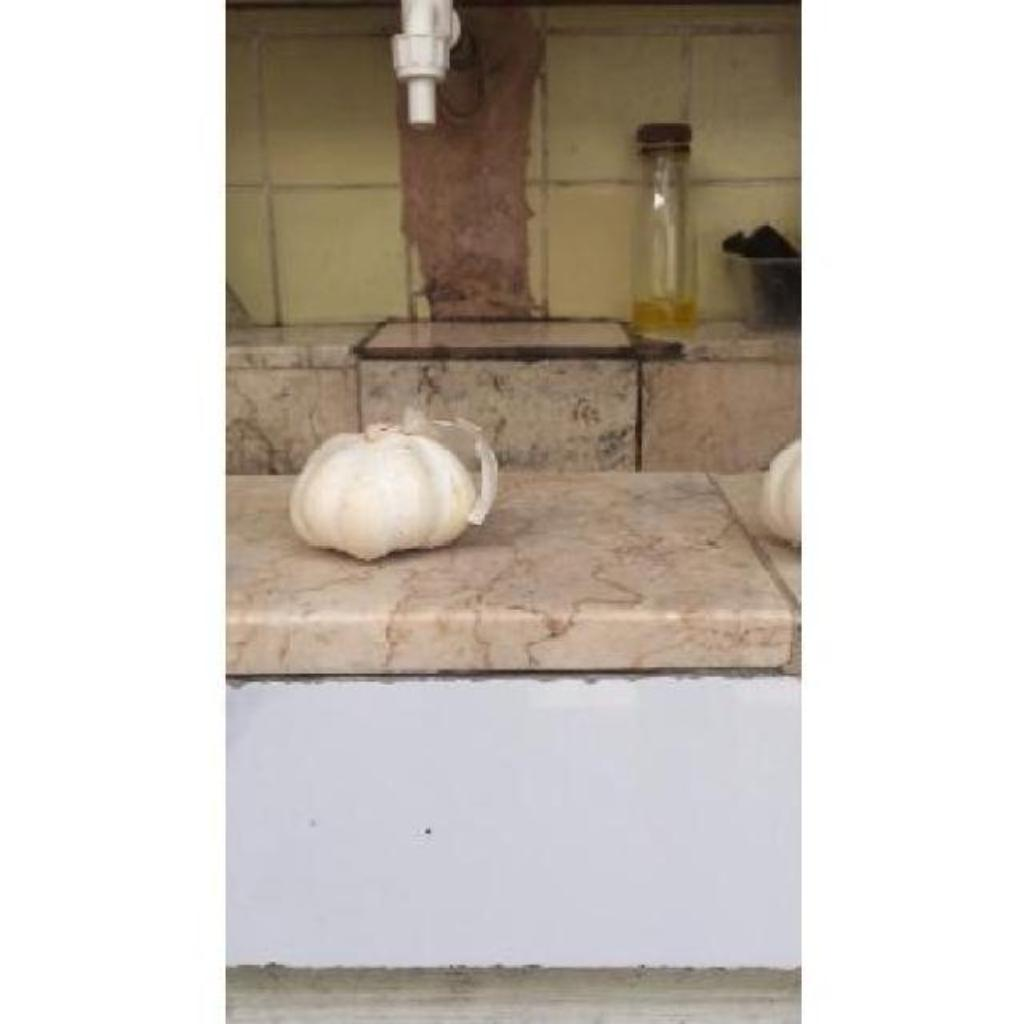garlic: (290, 426, 496, 559), (760, 438, 800, 545)
